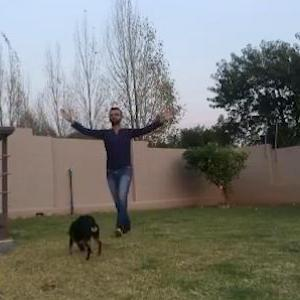takeoff: (49, 88, 171, 242)
